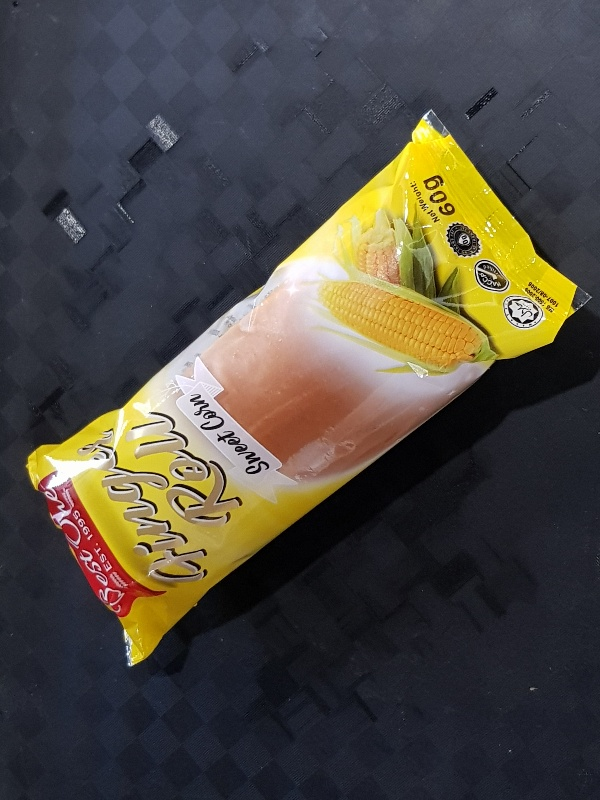Tinges Roll Sweet Corn: (23, 103, 587, 667)
